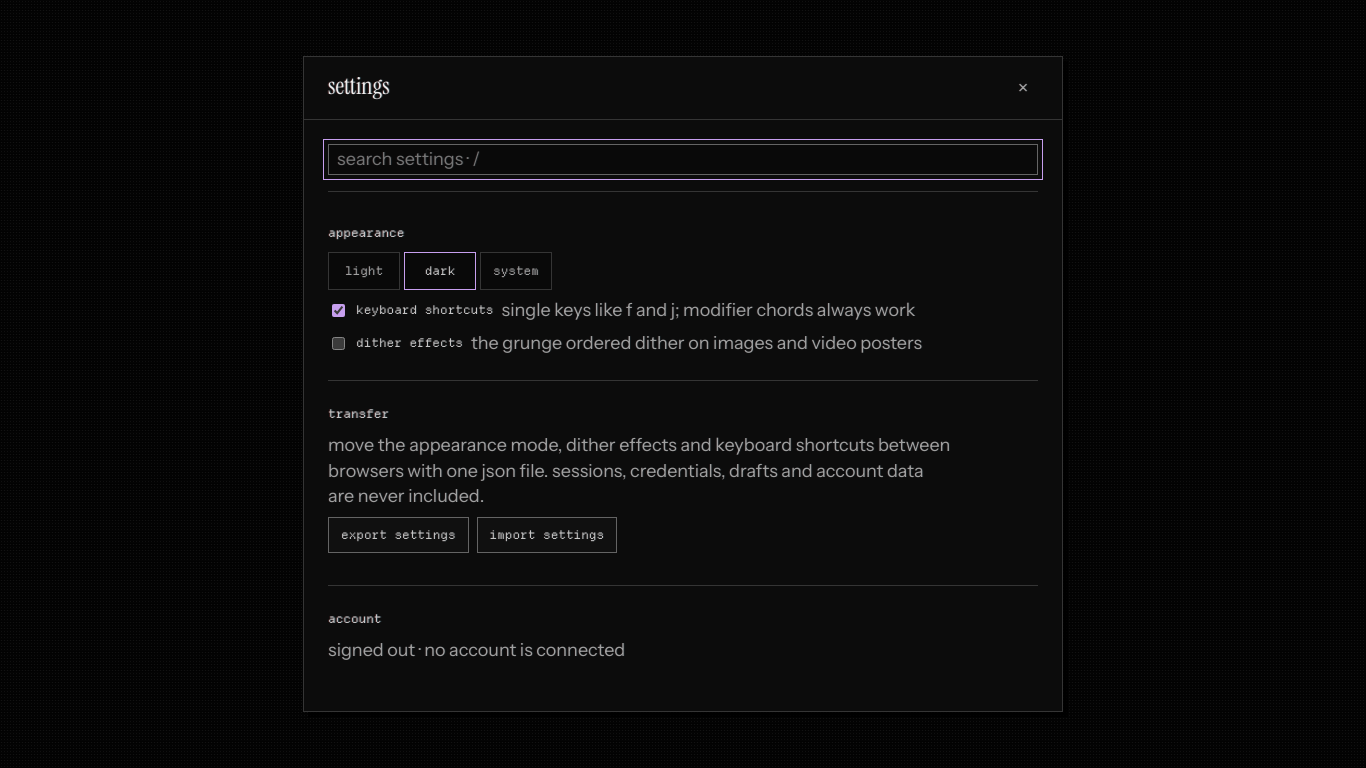
Scenario: SettingsDialog search › announces an empty no-match result through a mounted status
Type "no such setting" into the search field labelled "search settings" at {"x": 683, "y": 159}, box [328,144,1038,175]
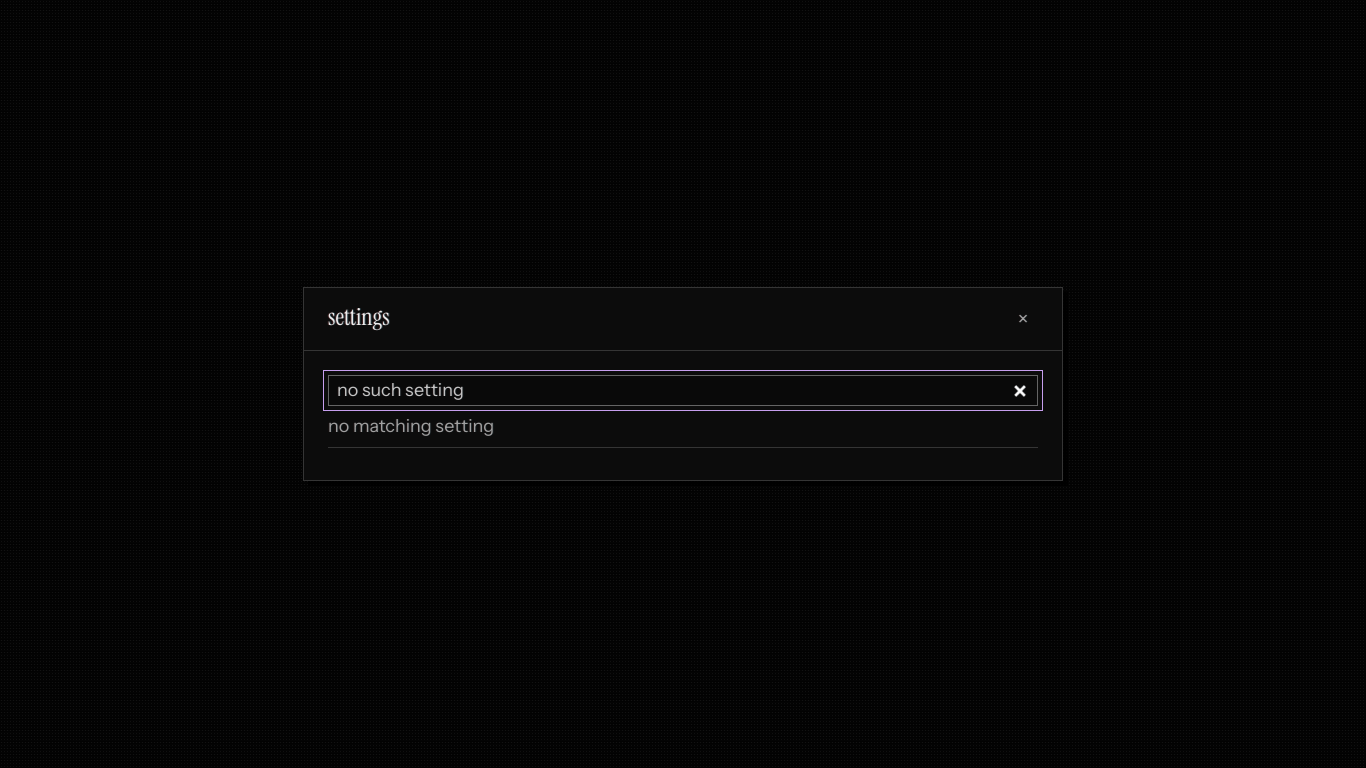
expect the message reads "no matching setting": met, box [328,415,494,437]
